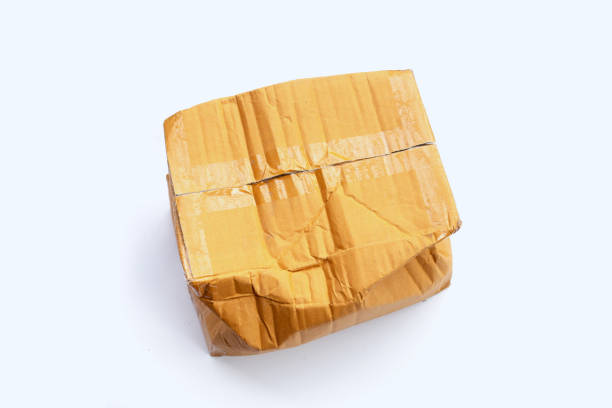damaged package: (193, 156, 468, 360)
